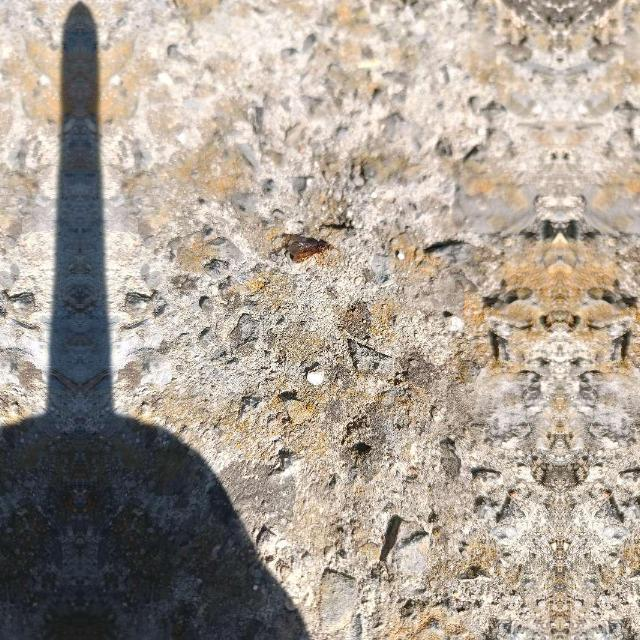Lasius: (282, 232, 352, 272)
